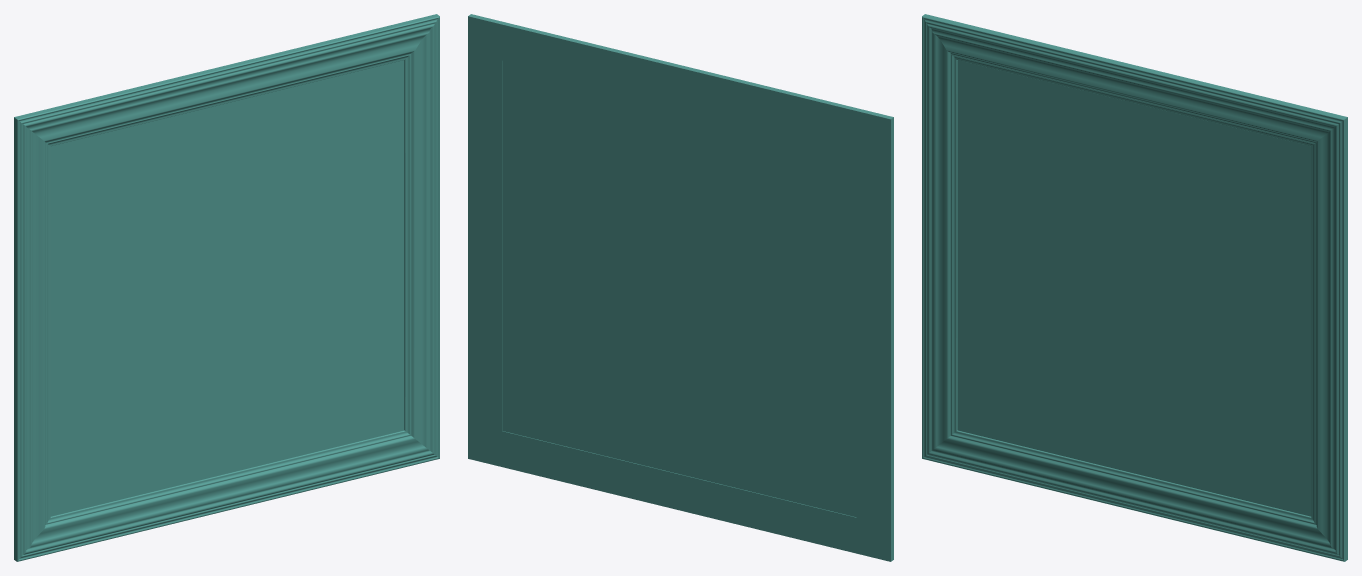
Rendered from painting.fbx.
3 renders of one model, left to right at view 1: azimuth 30°, elevation 25°; view 2: azimuth 150°, elevation 25°; view 3: azimuth 330°, elevation 25°, orthographic.
Visible parts, largest first — view 1: Frame_1; view 2: Frame_1; view 3: Frame_1.
Part boxes in pixels (x1=…): Frame_1: x1=14, y1=14, x2=439, y2=561; Frame_1: x1=468, y1=14, x2=893, y2=561; Frame_1: x1=922, y1=14, x2=1347, y2=561.
Bounding box in the file's own units: 200 × 200 × 3.6.
